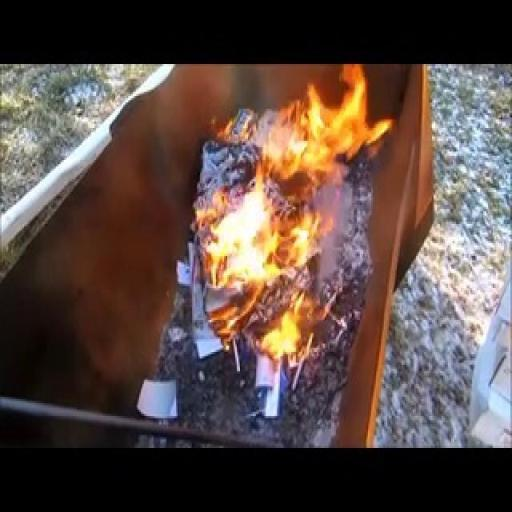smoke: (186, 64, 358, 365)
